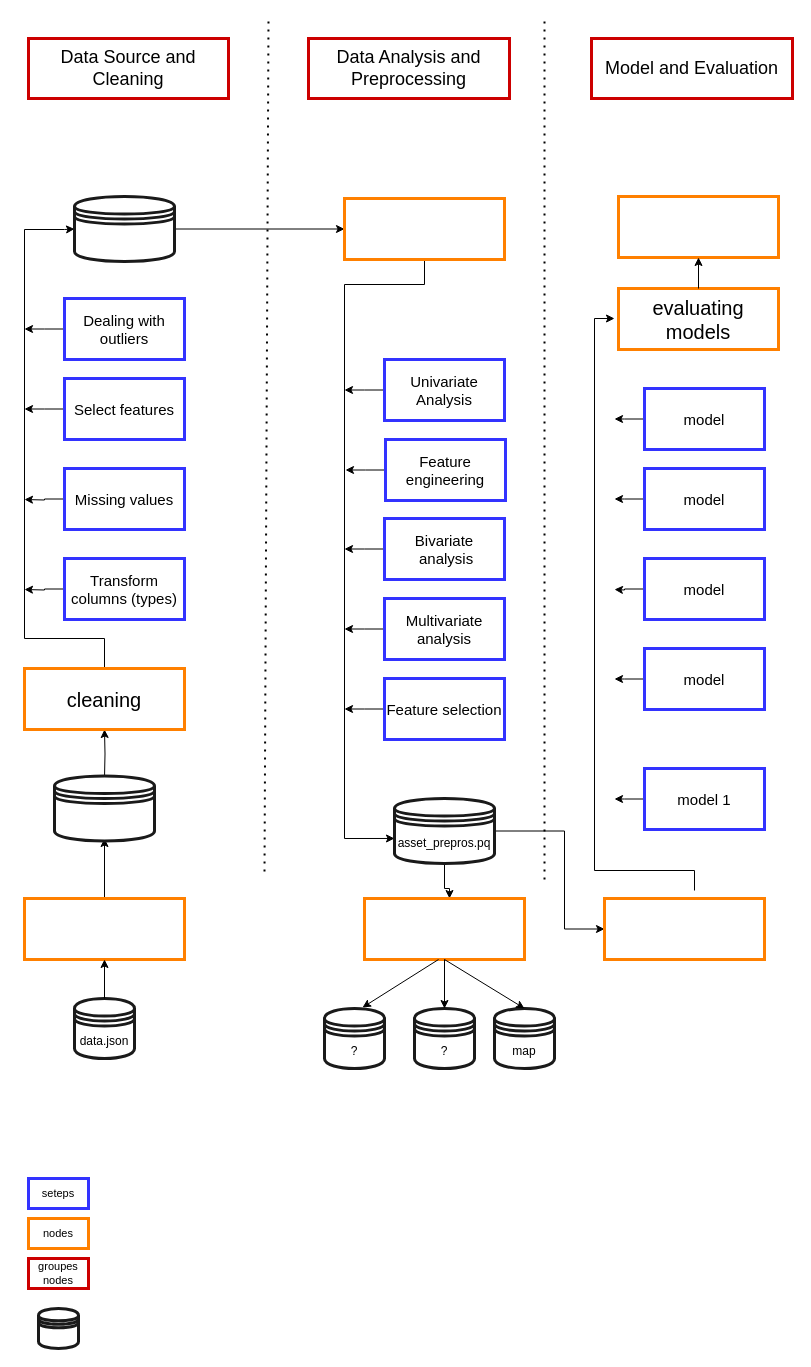
The diagram is 811 pixels wide and 1367 high, and some of its shapes have lost their labels. Here are the shapes that lost their labels. From the top down, the box of each, then its label:
(72, 194, 176, 262): asset_cleaned.pq
(342, 196, 506, 260): preprocessing
(616, 194, 780, 258): choosing the best model
(52, 774, 156, 842): asset.pq
(22, 896, 186, 960): get_asset
(362, 896, 526, 960): reporting
(602, 896, 766, 960): Training models
(36, 1306, 80, 1350): data
